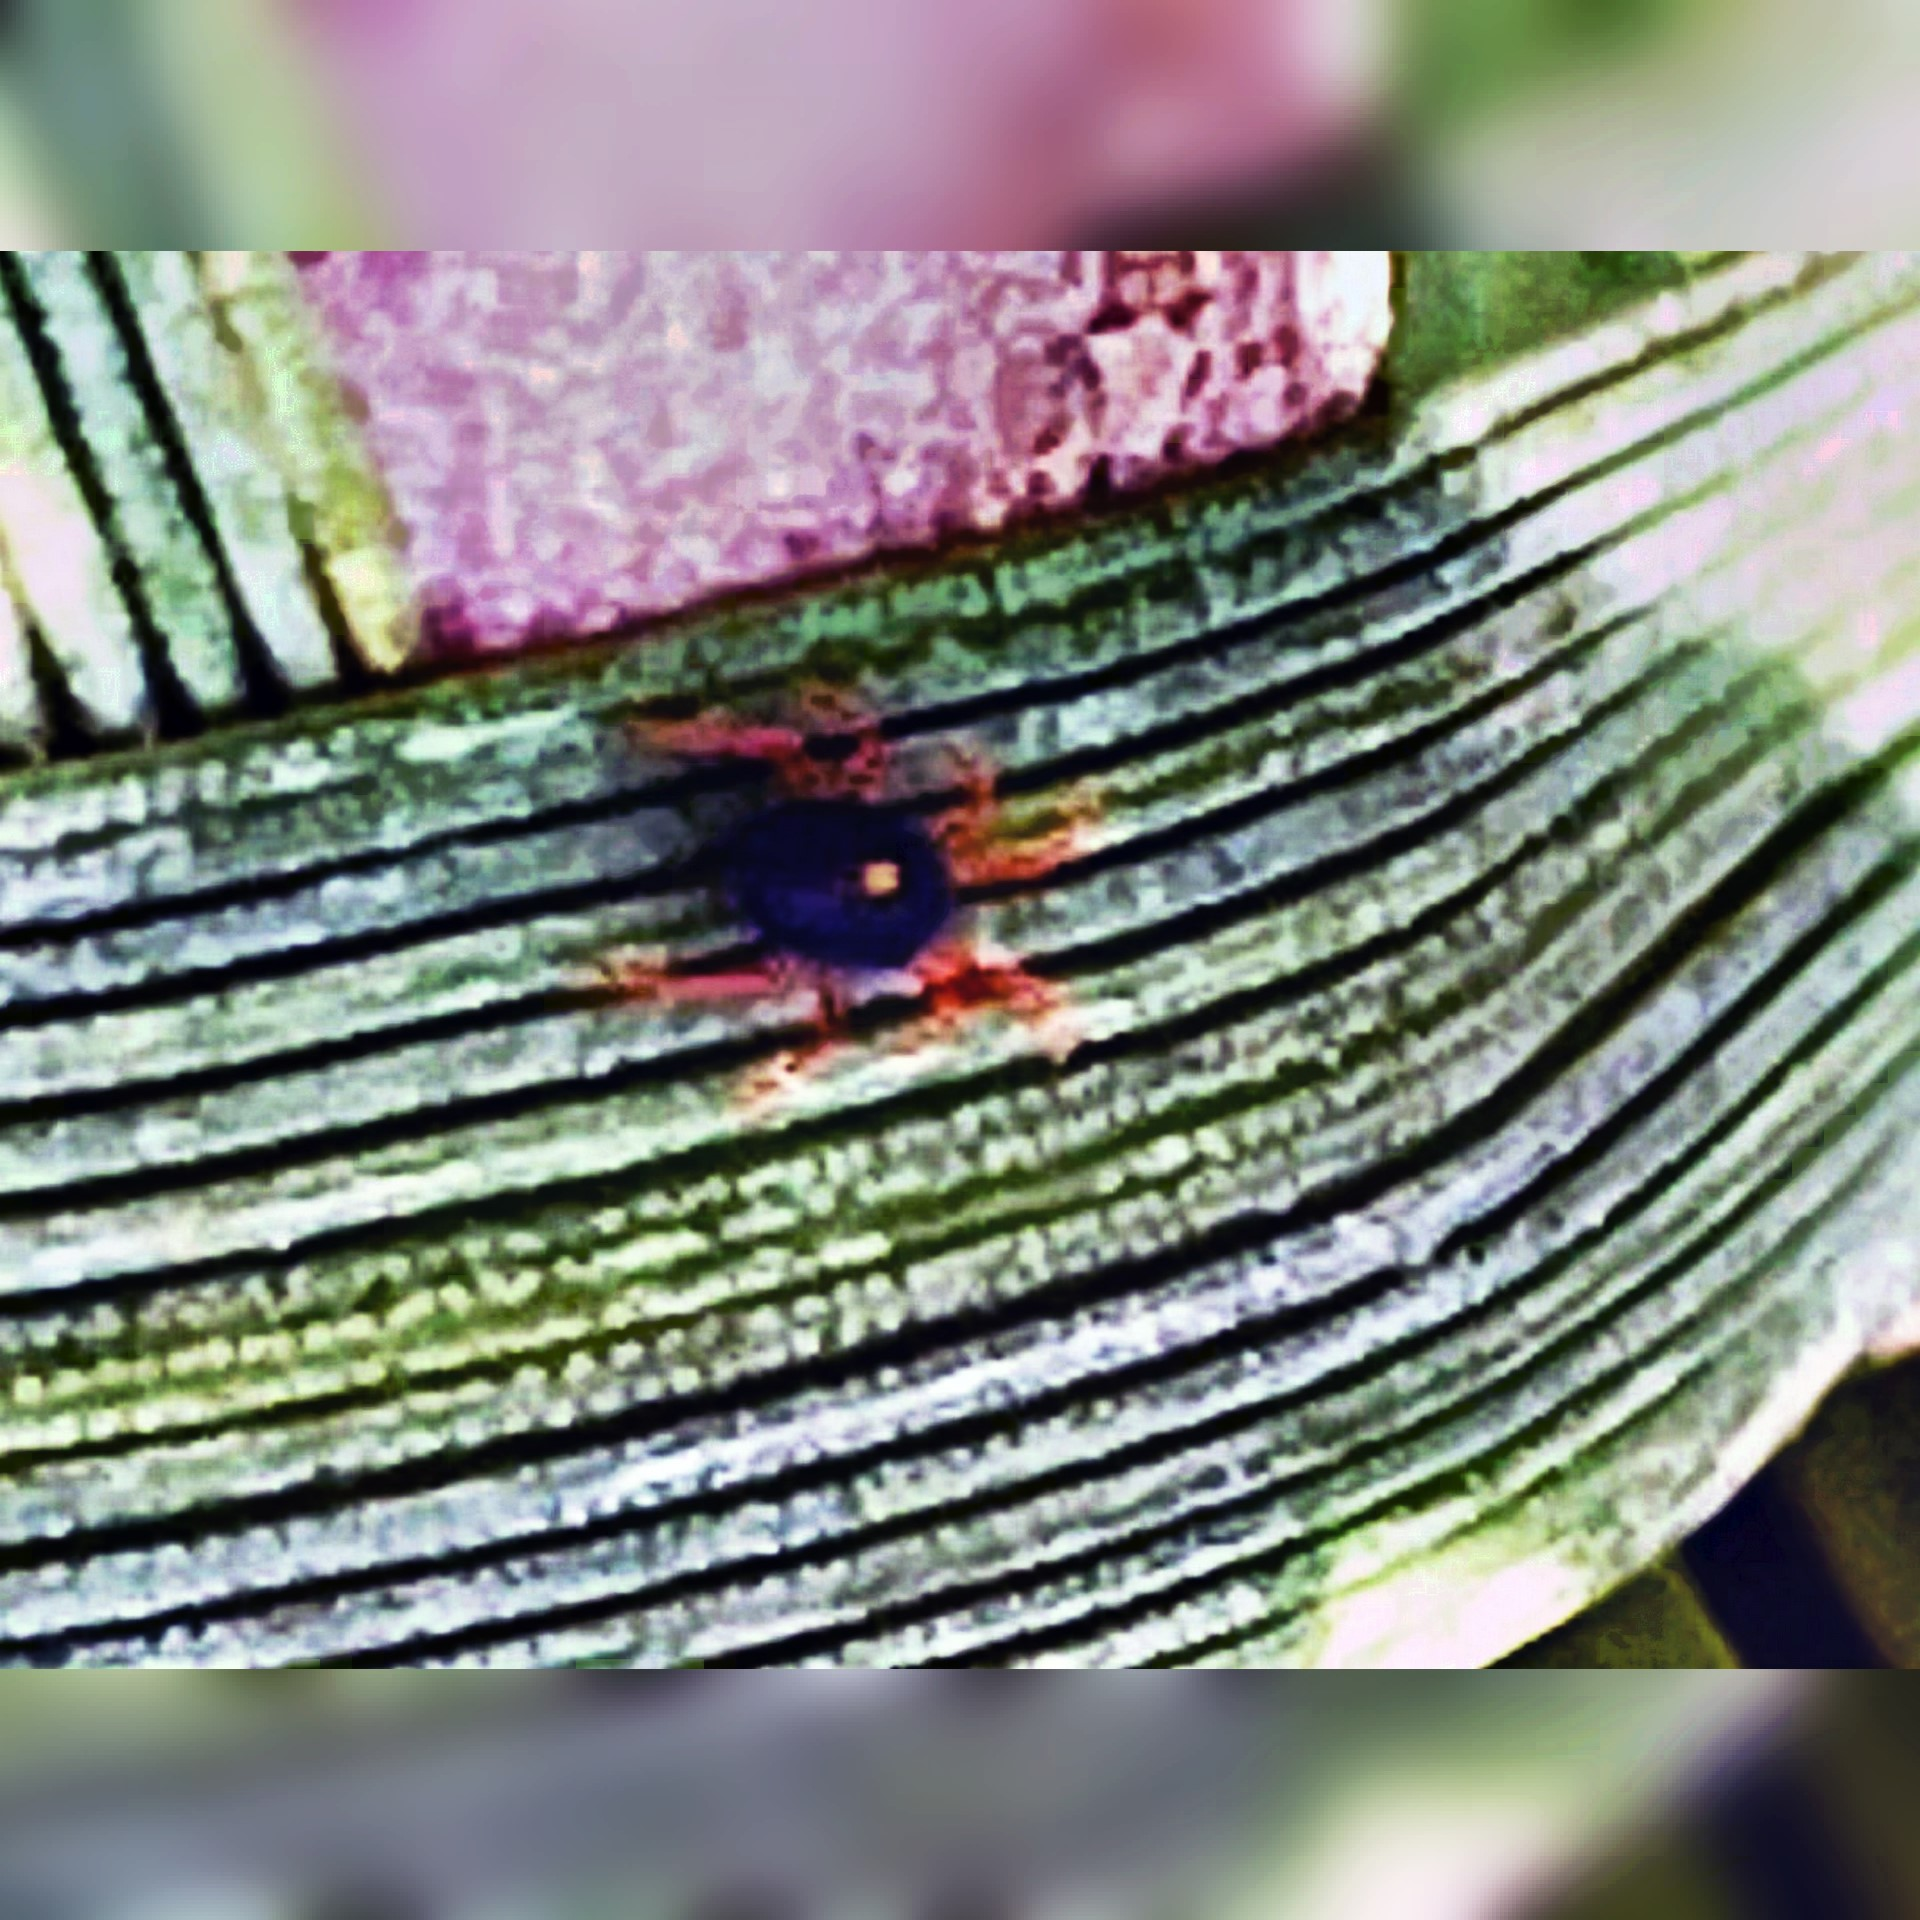Wheat Red Spider: (538, 622, 1136, 1160)
